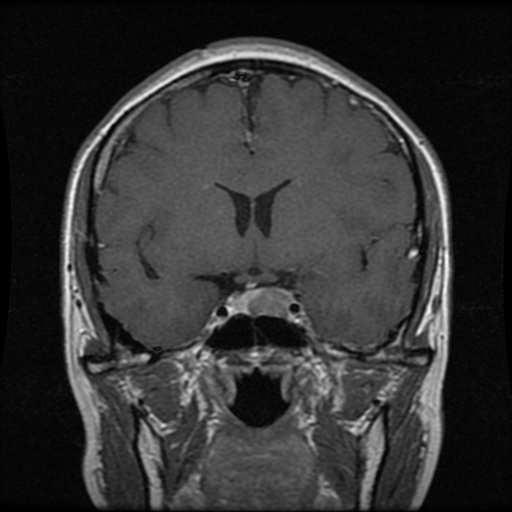pituitary: (227, 287, 292, 318)
